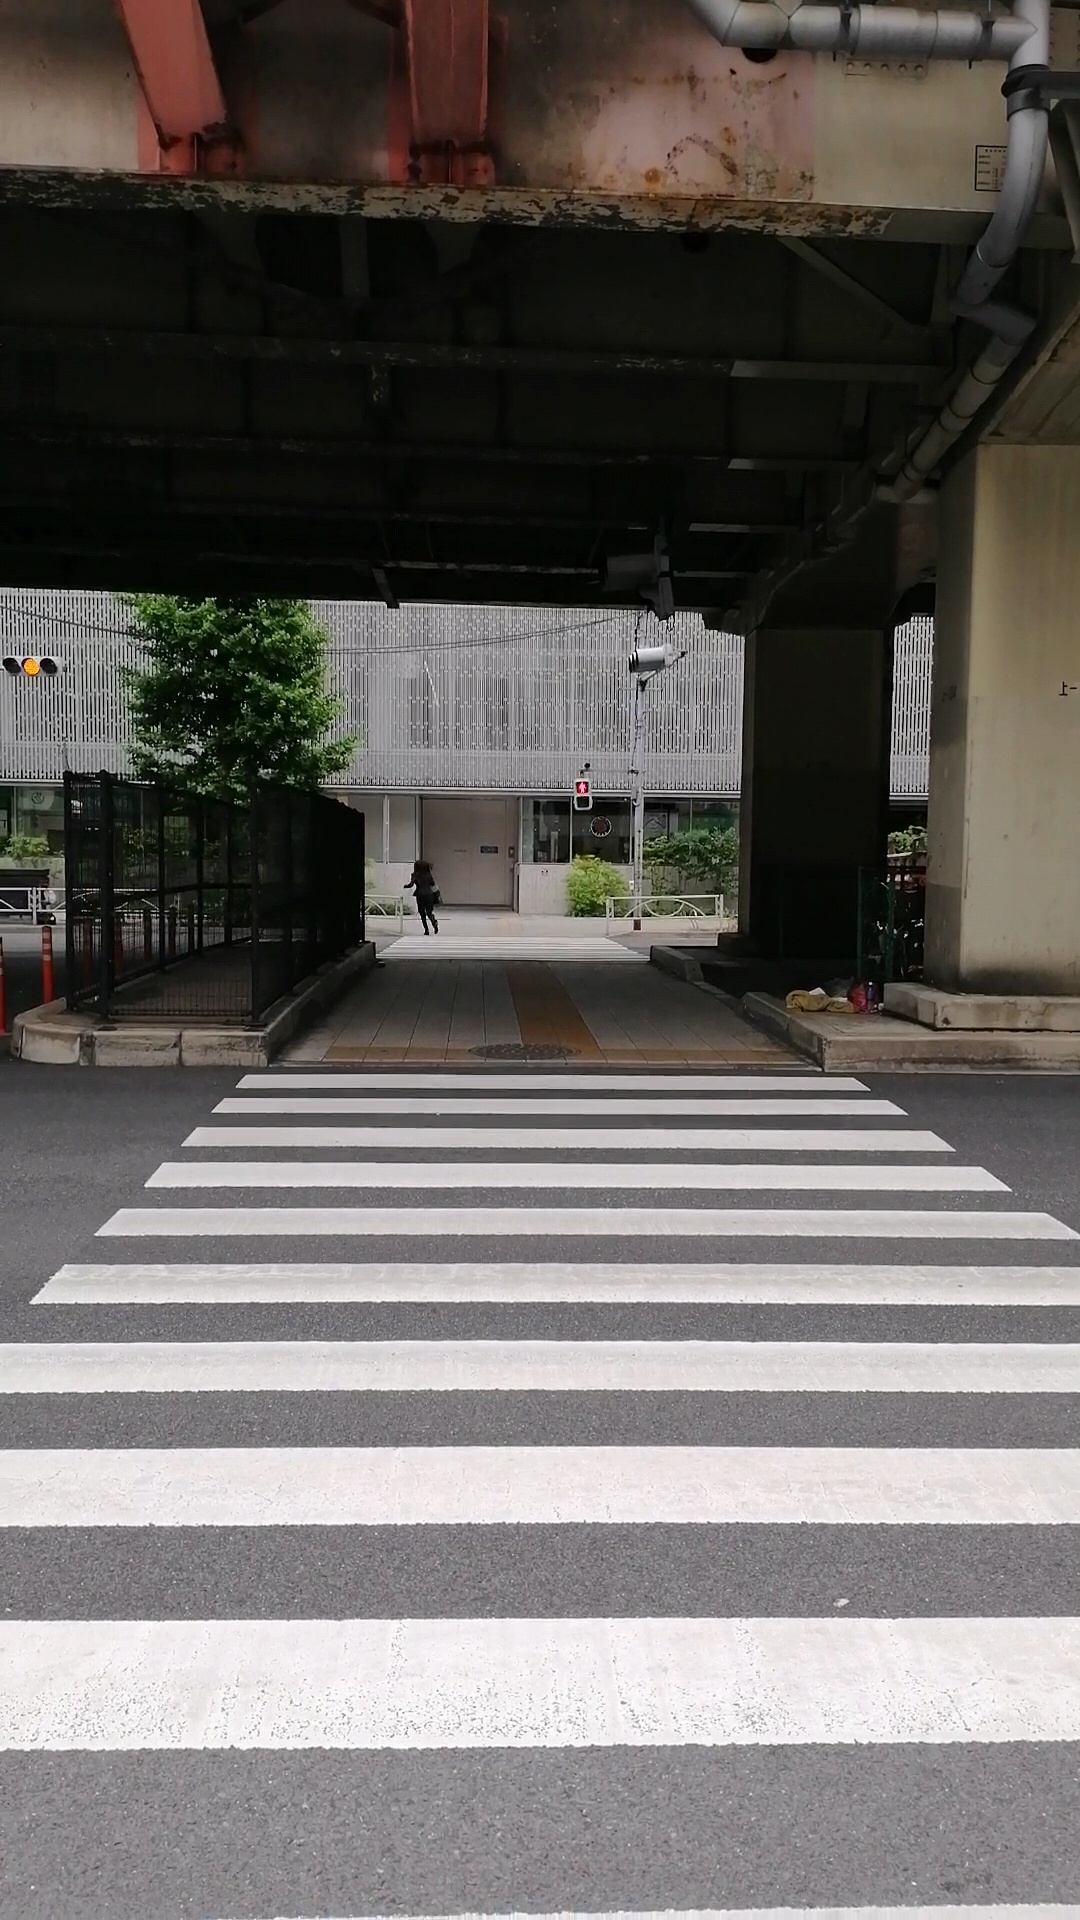red: (574, 778, 592, 810)
